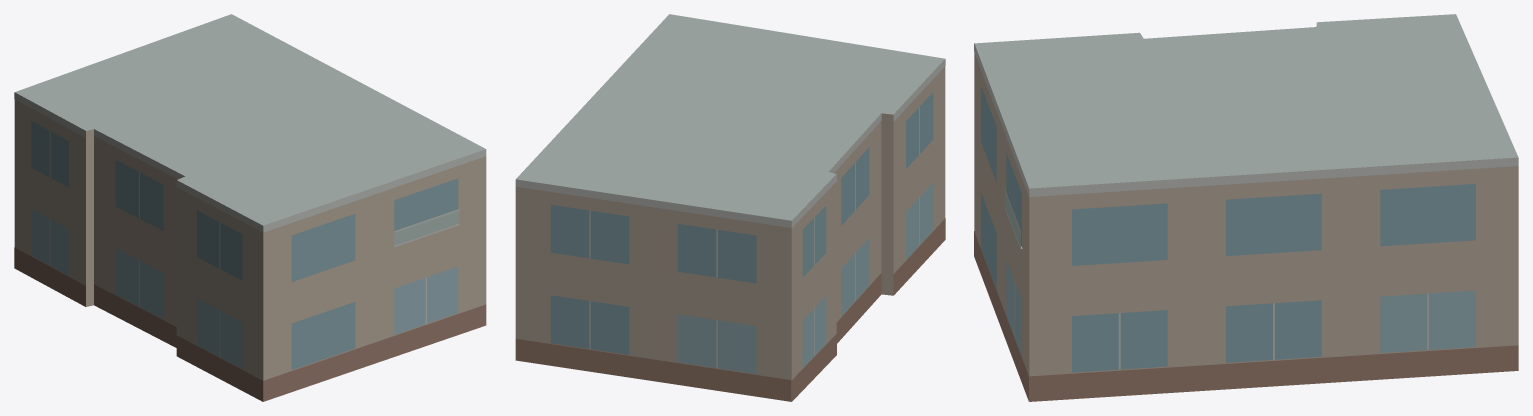
File: survey-upis-32985071.glb
The picture shows the model from 3 angles, left to right: view 1: azimuth 30°, elevation 25°; view 2: azimuth 150°, elevation 25°; view 3: azimuth 270°, elevation 25°; orthographic projection. The views are drawn at different scales.
Visible parts, largest first — view 1: survey-upis-32985071.tmp; view 2: survey-upis-32985071.tmp; view 3: survey-upis-32985071.tmp.
Part boxes in pixels (x1,y1,x2,y2): survey-upis-32985071.tmp: (14,14,486,401); survey-upis-32985071.tmp: (515,14,945,401); survey-upis-32985071.tmp: (974,14,1518,401).
Bounding box in the file's own units: 10.72 × 6.1 × 14.12.
